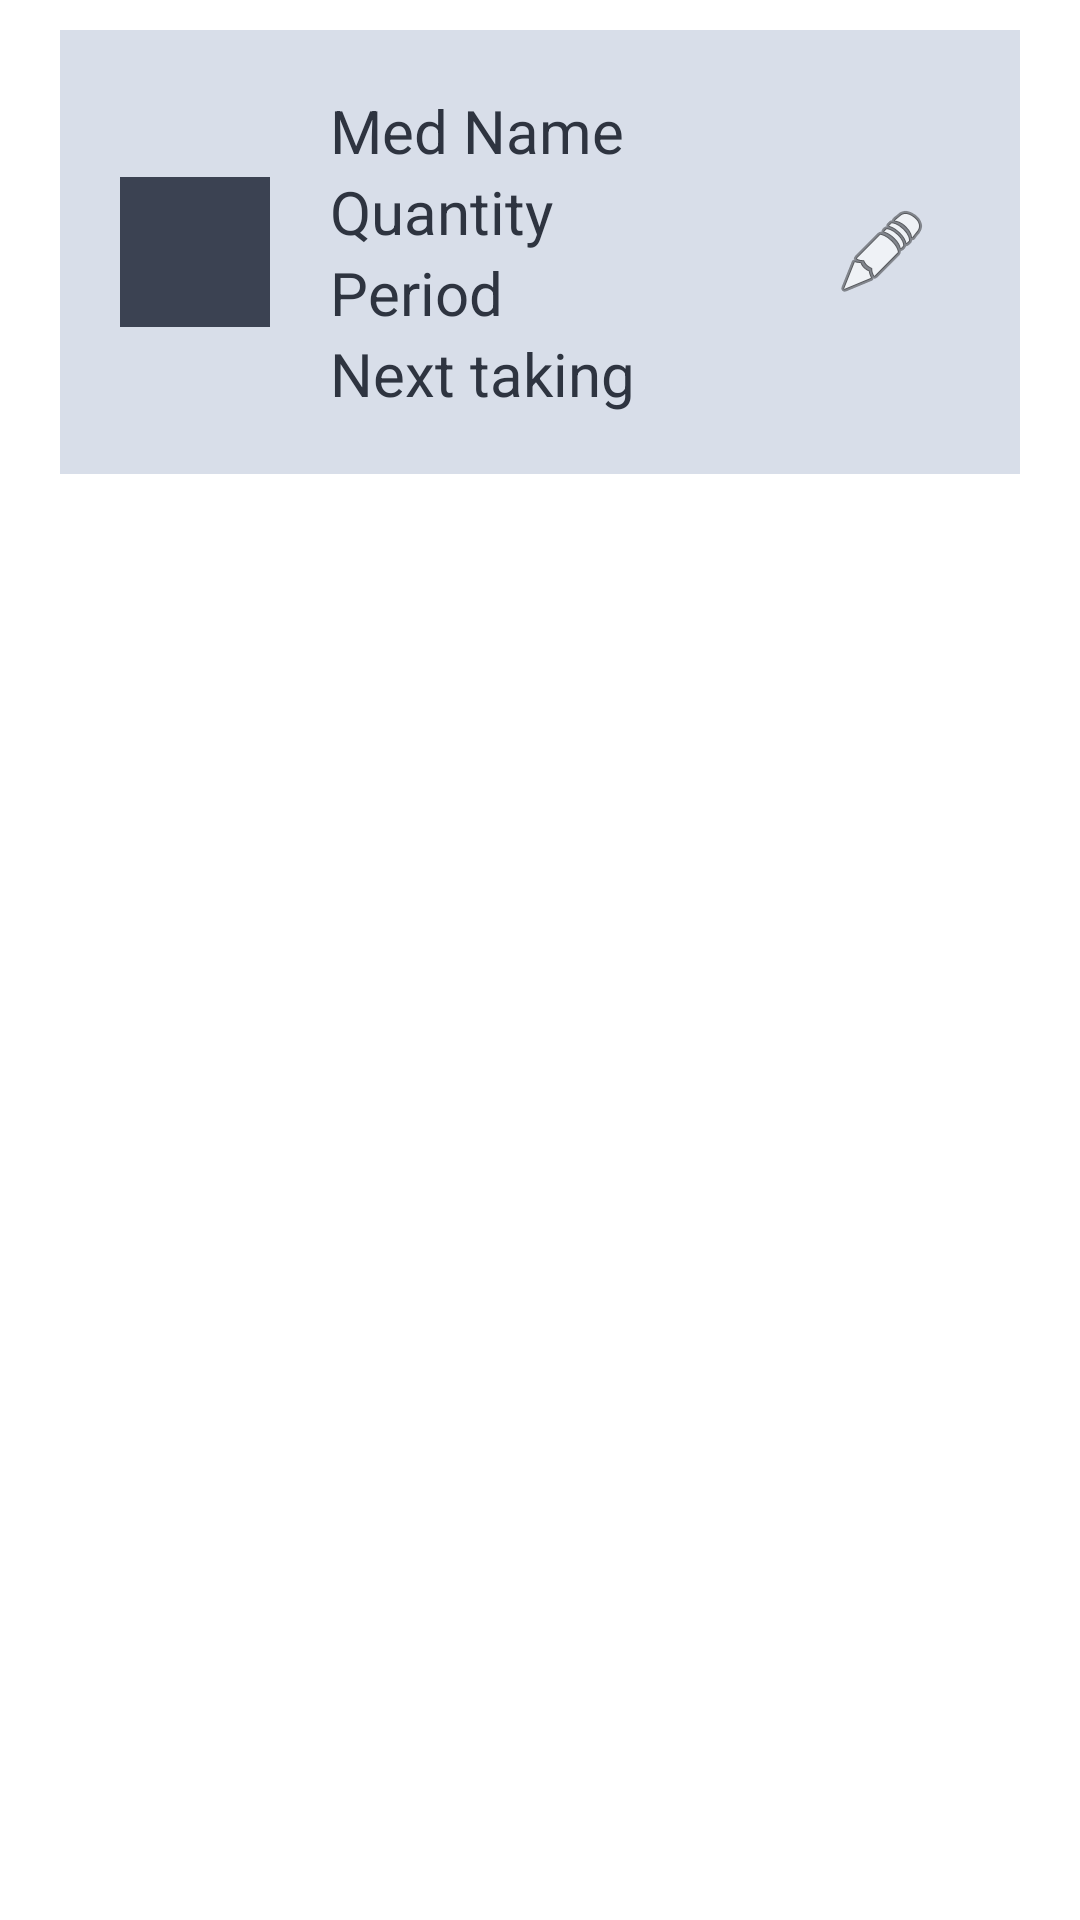

Screen size 1080px x 1920px. Icon name, then its box in pixels as (x1, y1, x2, y2):
edit: (841, 211, 922, 292)
